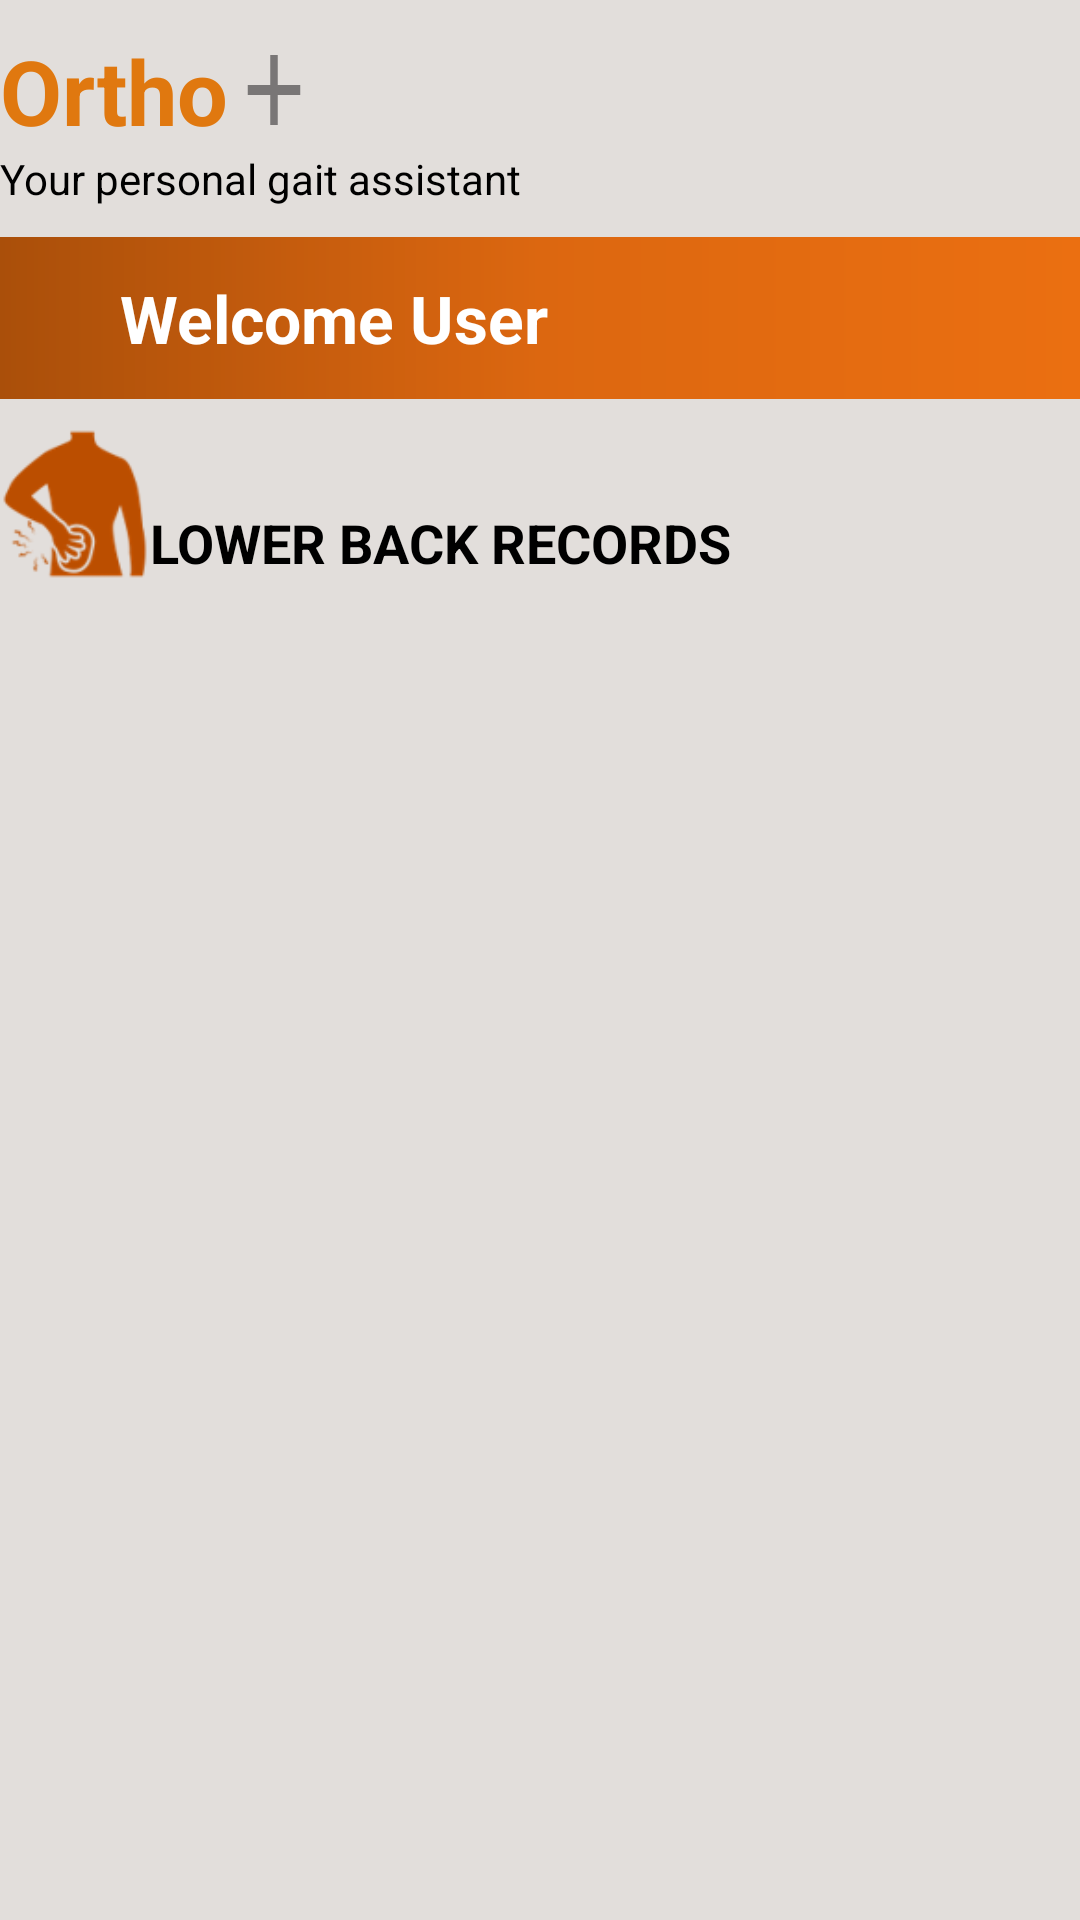

Named icons in this screenshot (1080x1920) and their centers, (x=x, y=y):
add: (x=274, y=90)
